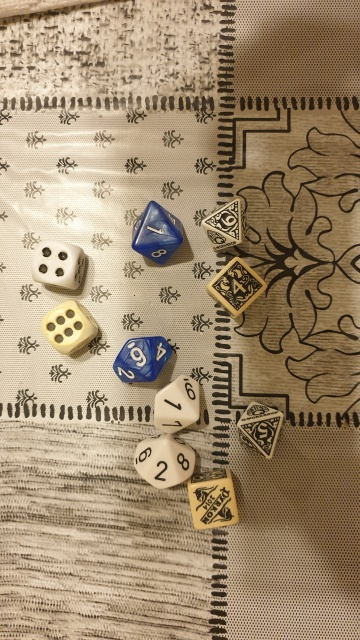d10-1: (123, 197, 186, 267), (147, 371, 210, 440)
d10-2: (125, 433, 201, 492)
d10-6: (106, 334, 175, 387)
d6-4: (27, 237, 88, 293)
d6-6: (40, 298, 100, 357)
d6p-1: (185, 470, 242, 532)
d6p-4: (202, 258, 271, 317)
d8p-5: (234, 393, 290, 464)
d8p-6: (199, 194, 255, 255)
